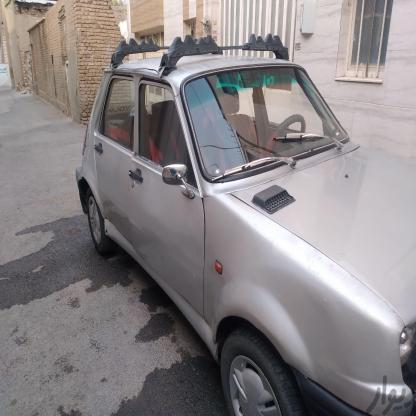Car: (70, 21, 416, 416)
